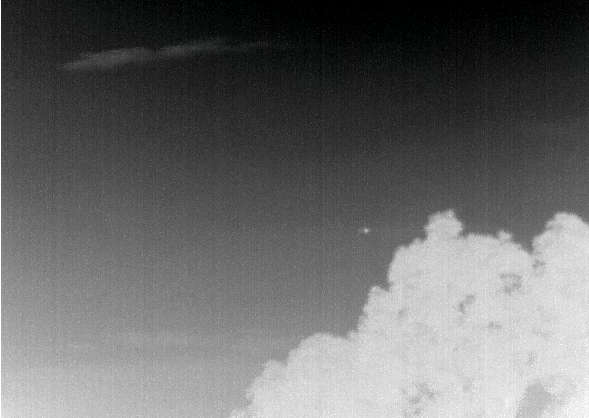dim target: (360, 226, 371, 235)
